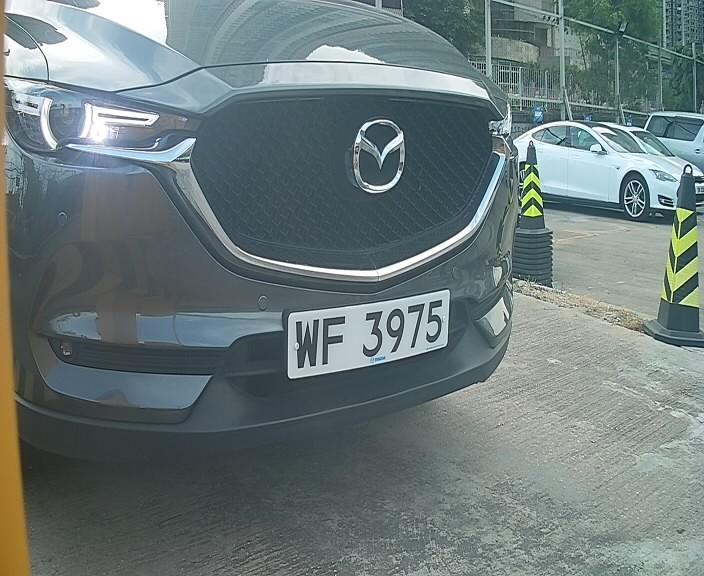privatecar: (9, 2, 515, 479)
